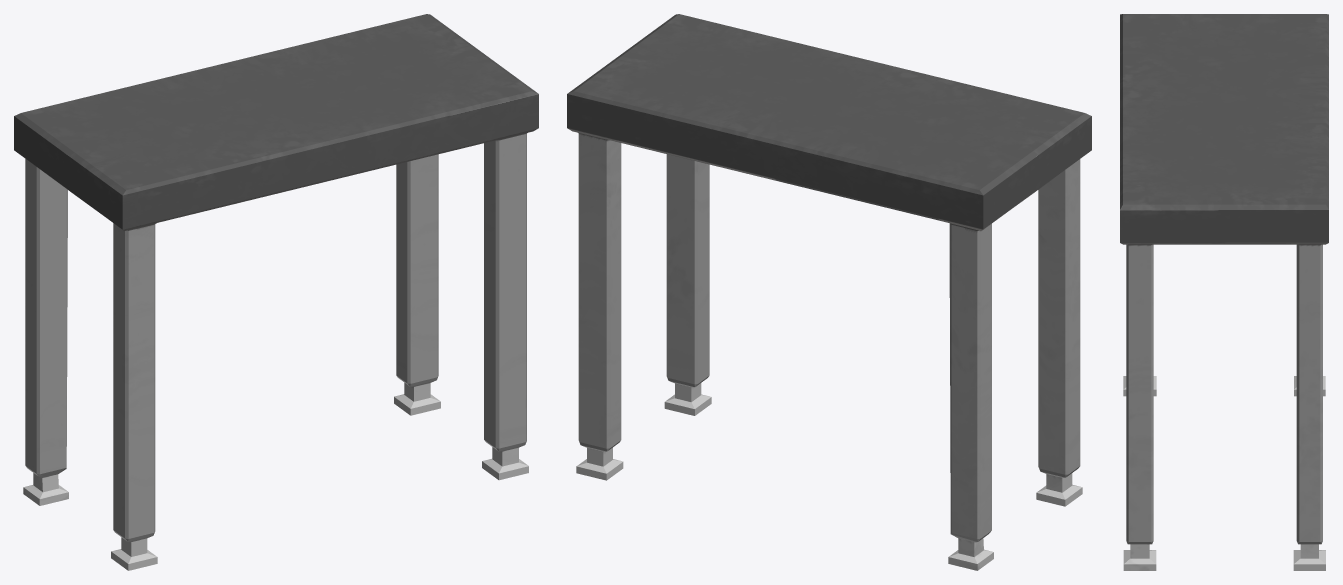
The model's file is LabTable00.fbx.
3 views of the same model, side by side, from view 1: azimuth 30°, elevation 25°; view 2: azimuth 150°, elevation 25°; view 3: azimuth 270°, elevation 25° (orthographic). The views are drawn at different scales.
Visible parts, largest first — view 1: LabTable00; view 2: LabTable00; view 3: LabTable00.
Boxes of the visible parts, <box> form: LabTable00: <box>14,14,538,570</box>; LabTable00: <box>567,14,1091,570</box>; LabTable00: <box>1120,14,1328,570</box>.
Bounding box in the file's own units: 547 × 479 × 247.
1 material, 1 textured.
